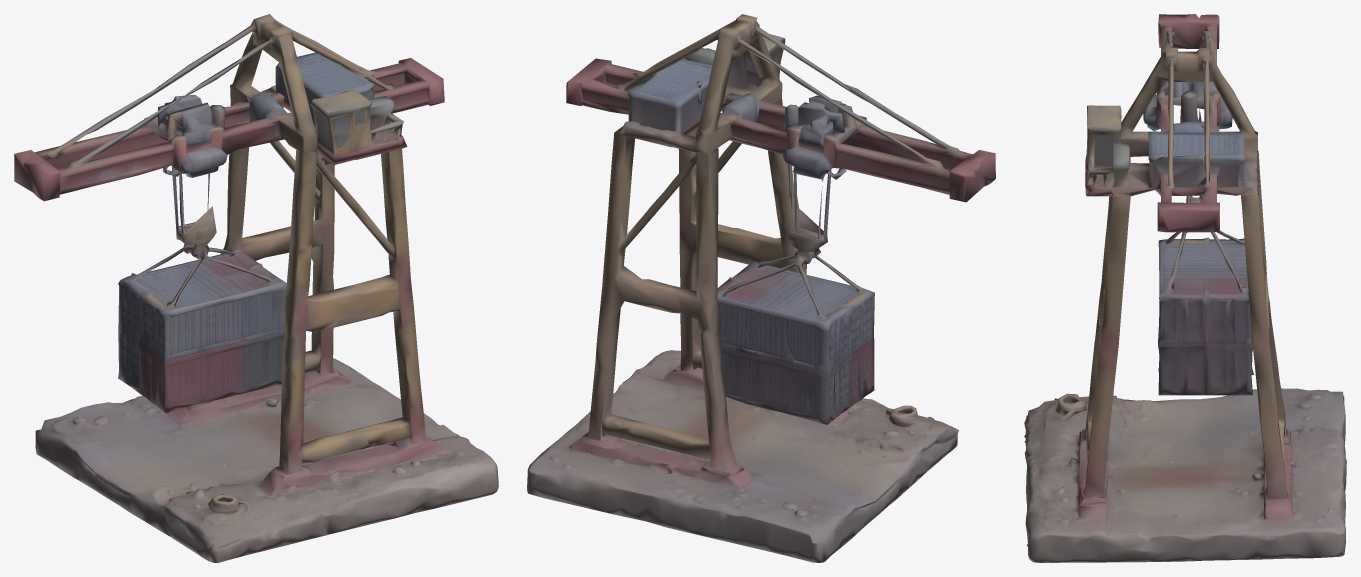
Rendered from seaport_crane.glb.
The picture shows the model from 3 angles, left to right: view 1: azimuth 30°, elevation 25°; view 2: azimuth 150°, elevation 25°; view 3: azimuth 270°, elevation 25°; orthographic projection.
Parts seen in each view (by area): view 1: tripo_node_8640c455-3631-485b-ac45-0707e0ef427d; view 2: tripo_node_8640c455-3631-485b-ac45-0707e0ef427d; view 3: tripo_node_8640c455-3631-485b-ac45-0707e0ef427d.
Part boxes in pixels (x1=…): tripo_node_8640c455-3631-485b-ac45-0707e0ef427d: x1=14, y1=14, x2=498, y2=562; tripo_node_8640c455-3631-485b-ac45-0707e0ef427d: x1=527, y1=14, x2=995, y2=562; tripo_node_8640c455-3631-485b-ac45-0707e0ef427d: x1=1024, y1=14, x2=1346, y2=562.
Size of the model in its own units: 0.9415 by 1 by 0.6634.
1 material, 1 textured.
